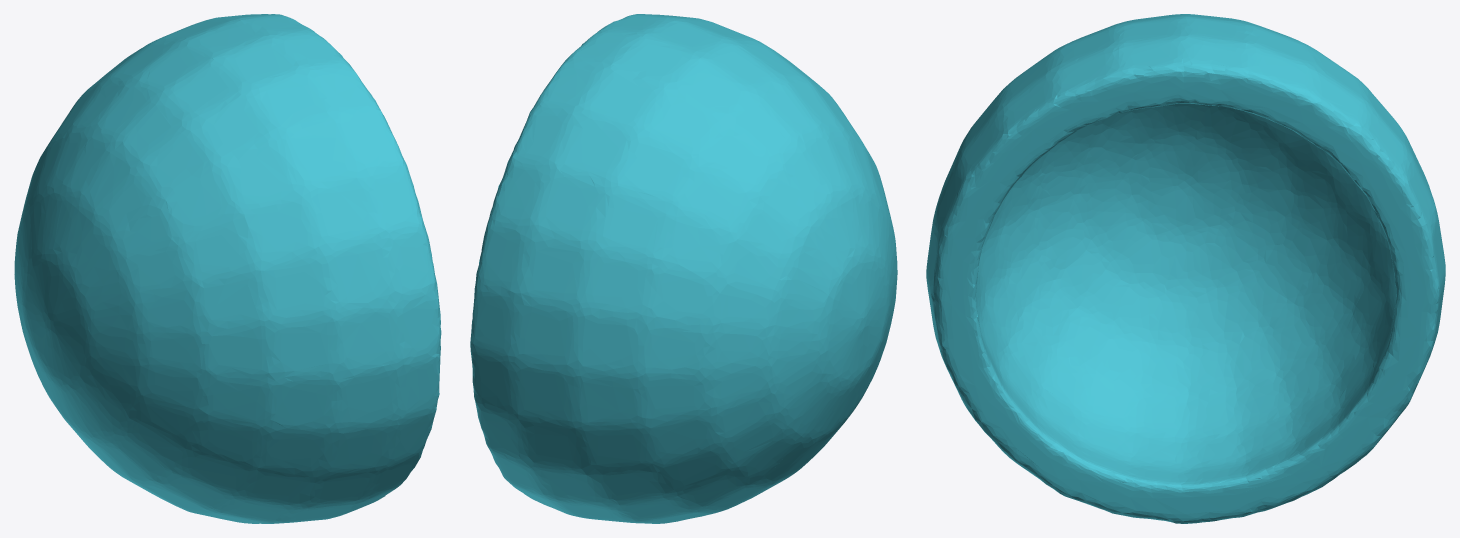
3 renders of one model, left to right at view 1: azimuth 30°, elevation 25°; view 2: azimuth 150°, elevation 25°; view 3: azimuth 270°, elevation 25°, orthographic.
Parts seen in each view (by area): view 1: Renderer Node; view 2: Renderer Node; view 3: Renderer Node.
Part boxes in pixels (bbox=[...]): Renderer Node: bbox=[14, 14, 441, 523]; Renderer Node: bbox=[470, 14, 897, 523]; Renderer Node: bbox=[926, 14, 1445, 523].
Size of the model in its own units: 0.3928 by 0.646 by 0.6458.
1 material, 1 textured.
